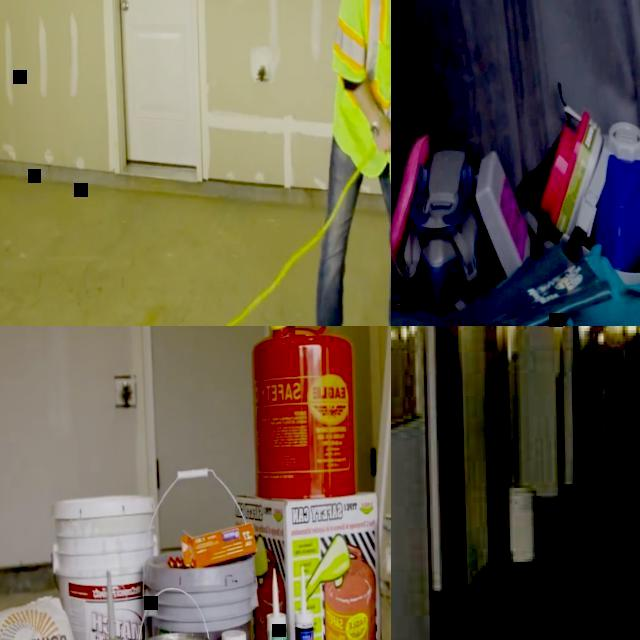mask: (391, 129, 534, 302), (536, 107, 640, 273)
person: (286, 0, 391, 326)
vest: (331, 0, 391, 195)
